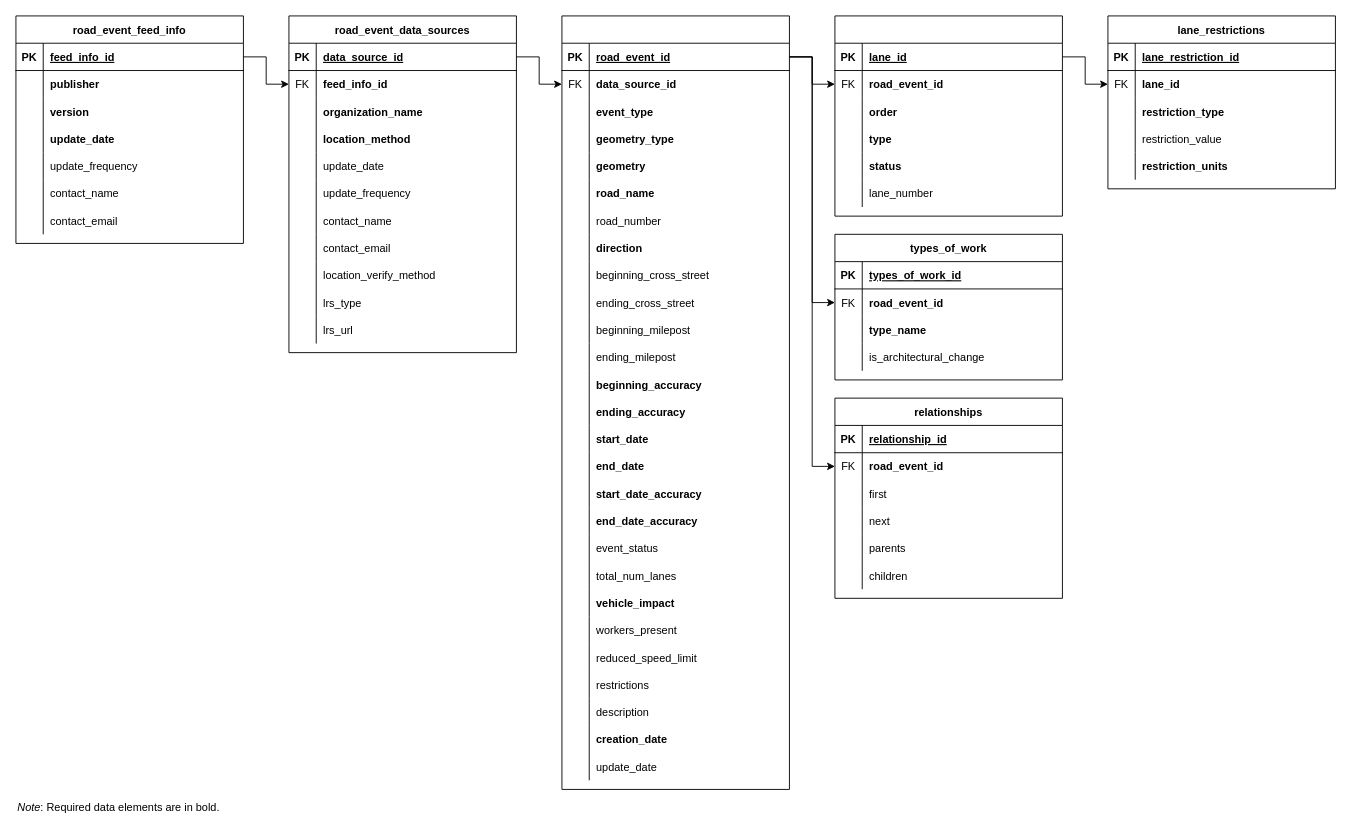
The diagram is 1351 pixels wide and 833 high, and some of its shapes have lost their labels. Here are the shapes that lost their labels. From the top down, the box of each, then its label:
(834, 15, 1062, 216): lanes
(561, 15, 789, 789): road_events
